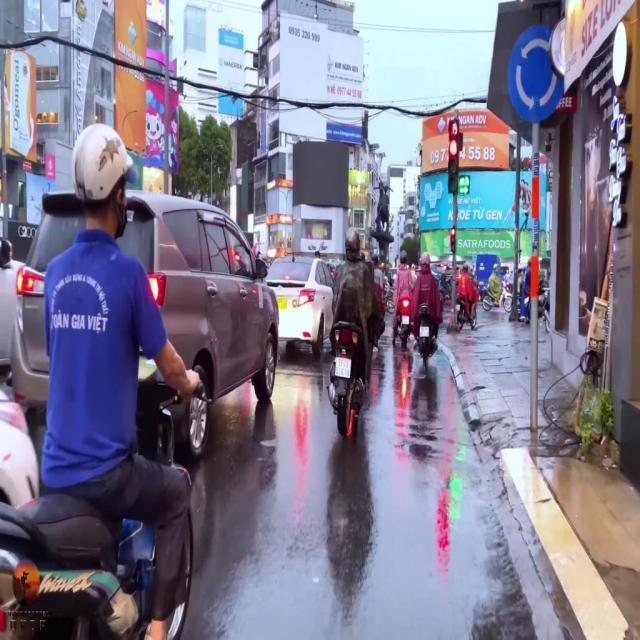noi_giao_nhau_chay_theo_vong: (506, 26, 564, 122)
